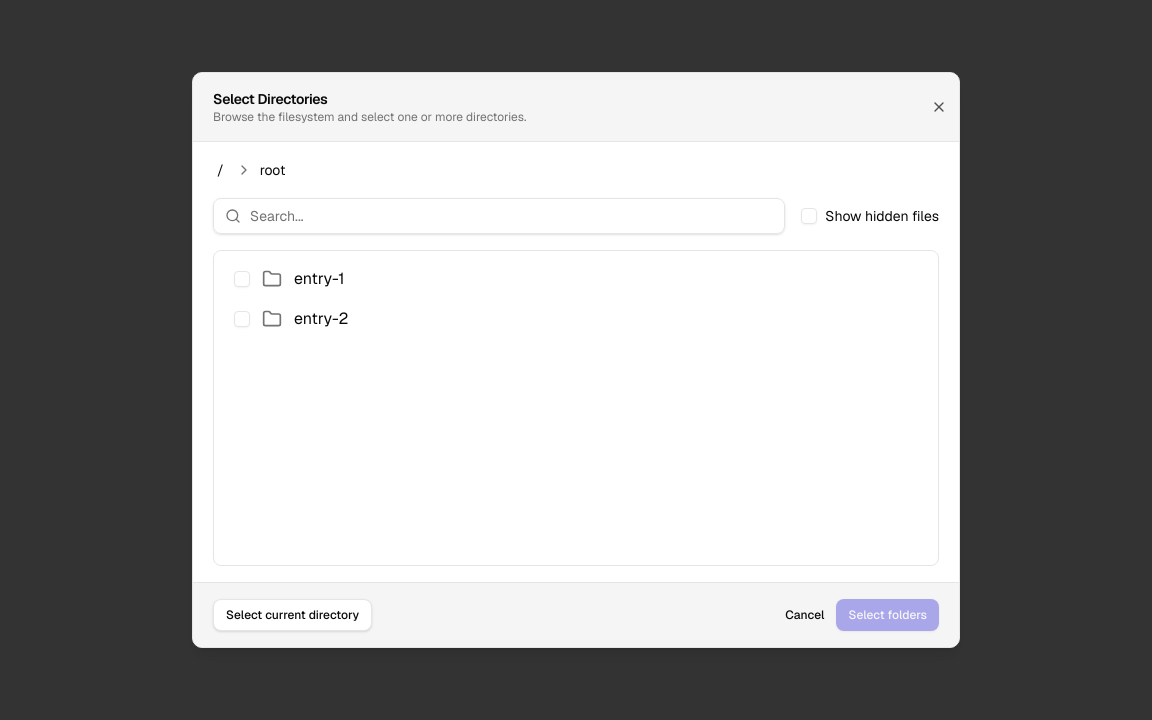
Scenario: DirectoryPickerDialog › enables the Select button only while a folder is checked
Expected: the button "Select folders" is disabled, 836,599 -> 939,631
Click the checkbox named "Select entry-1" at (242, 279), box 234,271 -> 250,287
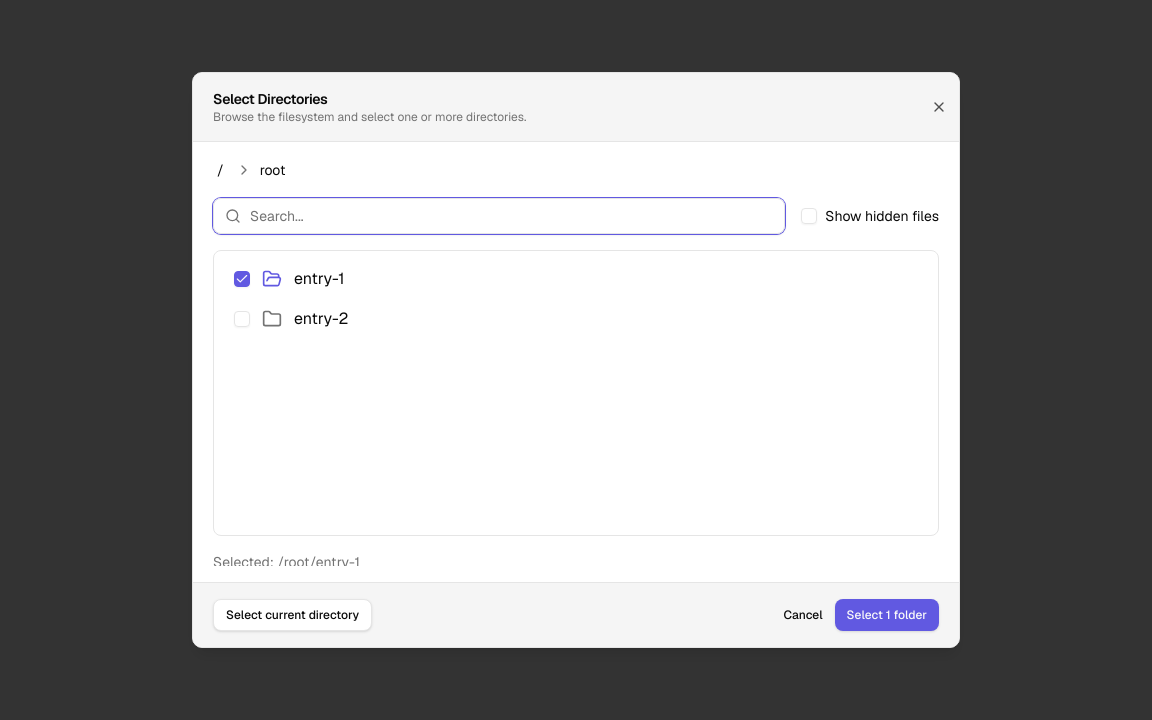
Result: the button "Select 1 folder" is enabled at 835,599 -> 939,631
Click the checkbox named "Select entry-1" at (242, 279), box 234,271 -> 250,287
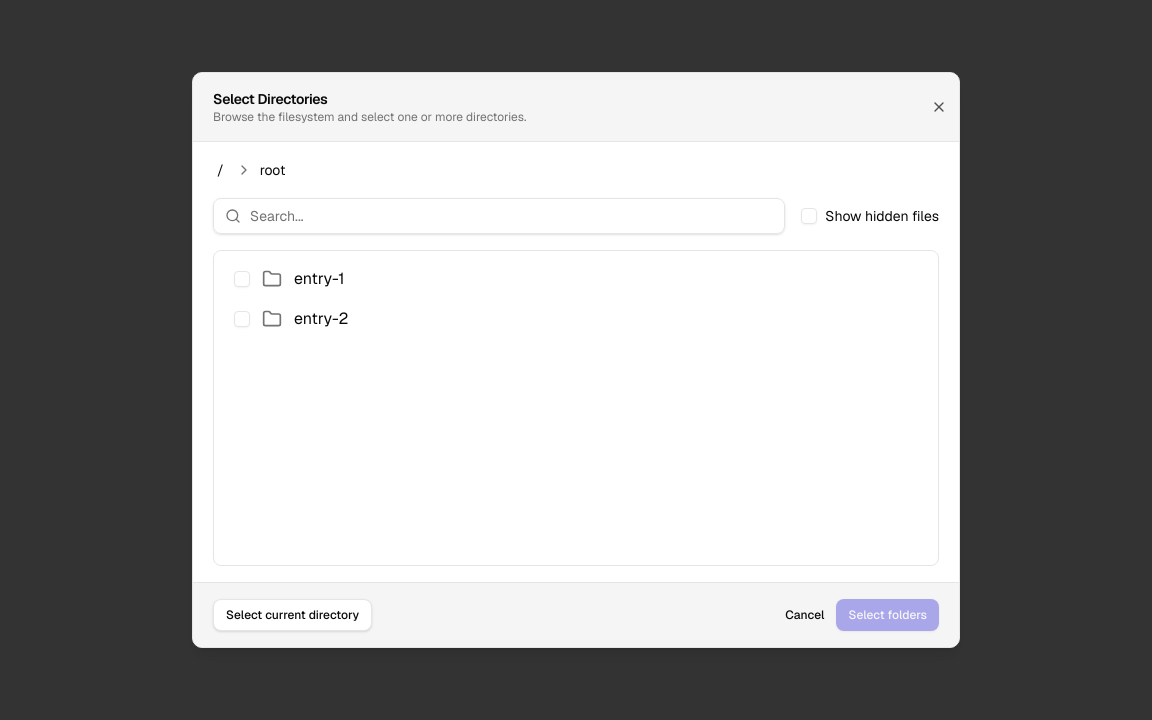
Result: the button "Select folders" is disabled at 836,599 -> 939,631
